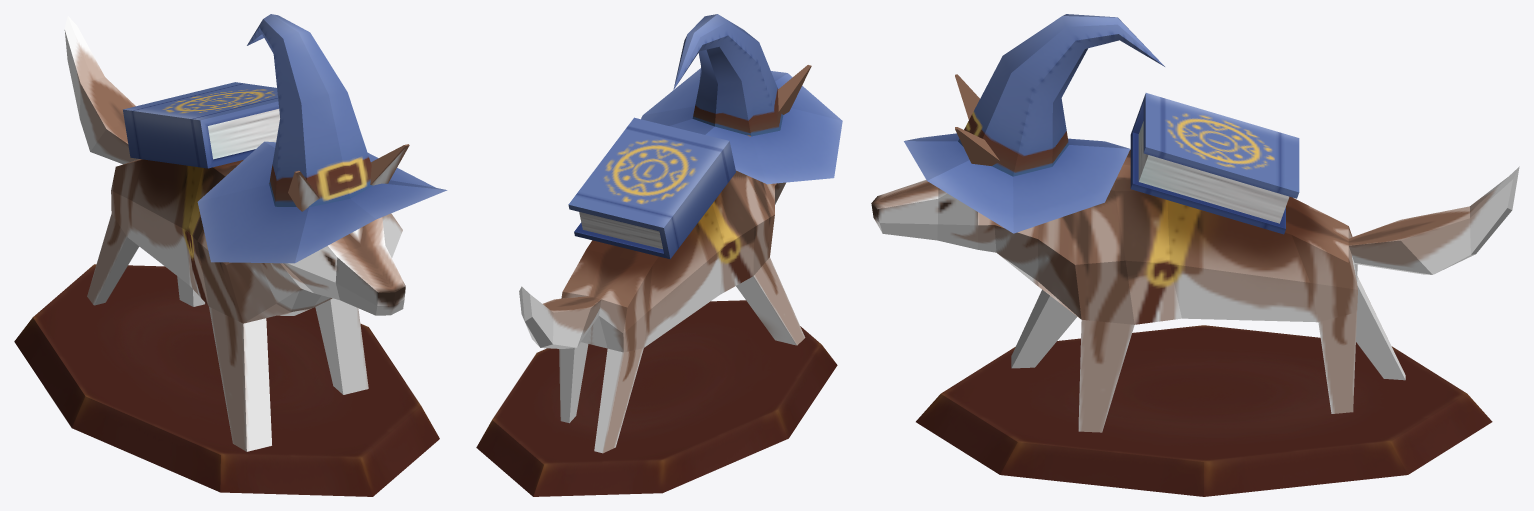
The model's file is Asset_Pawn_Lupus.fbx.
3 renders of one model, left to right at view 1: azimuth 30°, elevation 25°; view 2: azimuth 150°, elevation 25°; view 3: azimuth 270°, elevation 25°, orthographic. The views are drawn at different scales.
Parts seen in each view (by area): view 1: Lupus_Stand, STP_dog_body, LupusHat, STP_Dog_bag; view 2: Lupus_Stand, STP_dog_body, LupusHat, STP_Dog_bag; view 3: Lupus_Stand, STP_dog_body, LupusHat, STP_Dog_bag.
Boxes of the visible parts, x1=… form: Lupus_Stand: x1=14, y1=264, x2=439, y2=496; STP_dog_body: x1=64, y1=16, x2=409, y2=451; LupusHat: x1=197, y1=14, x2=447, y2=263; STP_Dog_bag: x1=123, y1=82, x2=279, y2=168; Lupus_Stand: x1=476, y1=300, x2=837, y2=496; STP_dog_body: x1=519, y1=65, x2=811, y2=453; LupusHat: x1=641, y1=14, x2=842, y2=184; STP_Dog_bag: x1=568, y1=117, x2=735, y2=259; Lupus_Stand: x1=916, y1=325, x2=1492, y2=496; STP_dog_body: x1=871, y1=74, x2=1519, y2=432; LupusHat: x1=904, y1=14, x2=1164, y2=233; STP_Dog_bag: x1=1130, y1=93, x2=1299, y2=234.
Bounding box in the file's own units: 29.52 × 37.24 × 53.88.
